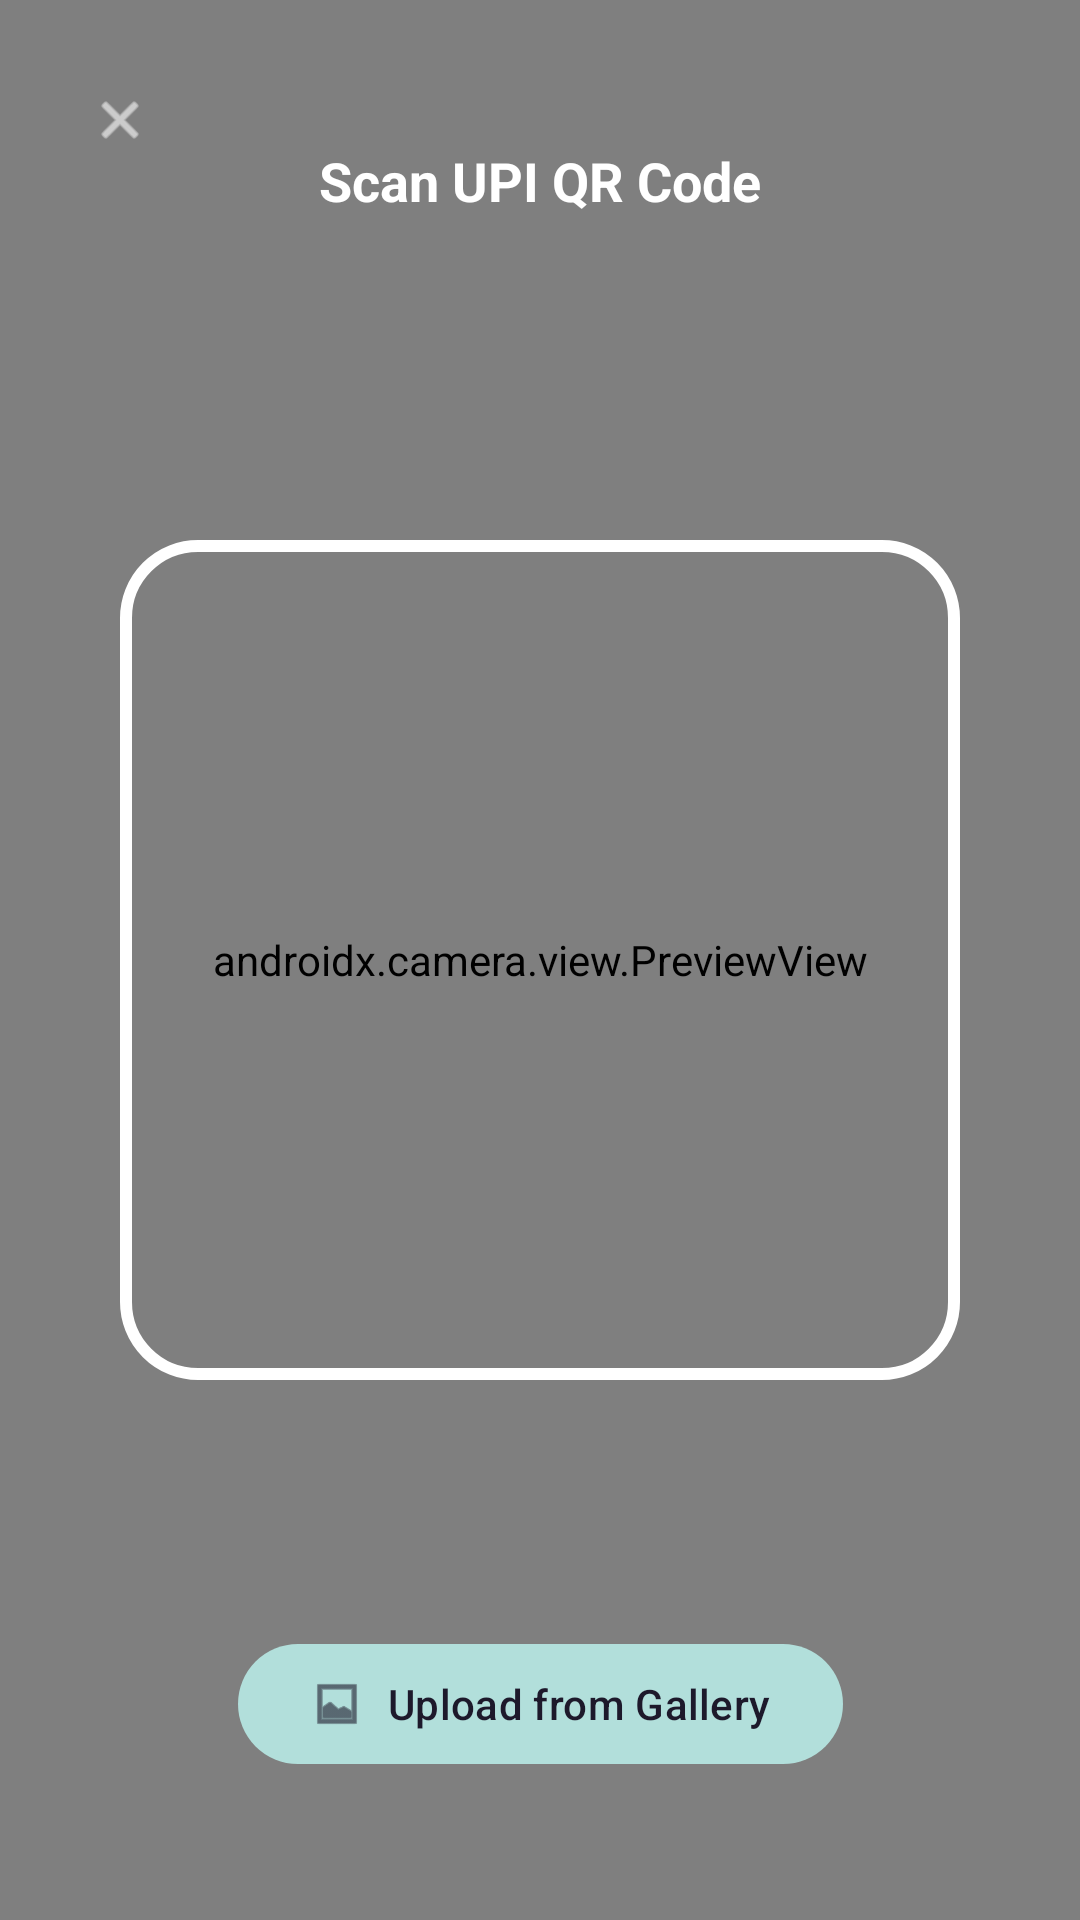

Named icons in this screenshot (1080px×1920px) and their bounding boxes, (left=x1, top=y1, right=x2, bottom=y2):
close clear cancel: (left=102, top=102, right=138, bottom=138)
